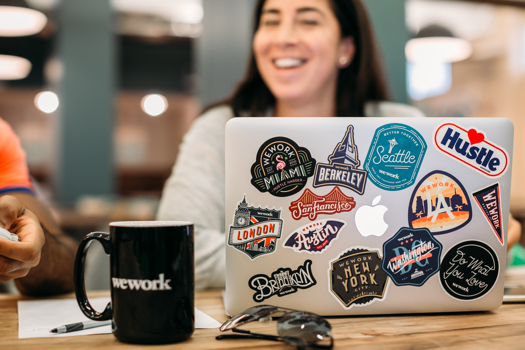wework: (110, 271, 173, 292)
